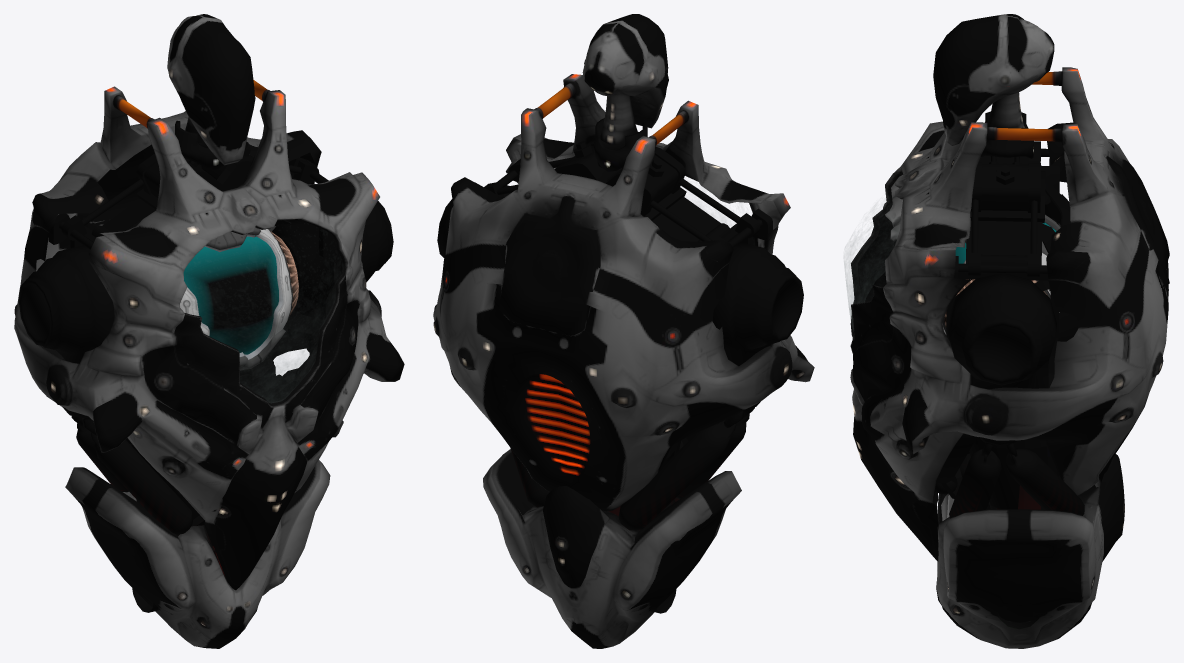
Rendered from torsoDEF.gltf.
The picture shows the model from 3 angles, left to right: view 1: azimuth 30°, elevation 25°; view 2: azimuth 150°, elevation 25°; view 3: azimuth 270°, elevation 25°; orthographic projection. The views are drawn at different scales.
Visible parts, largest first — view 1: MP_DEF_Torso, MP_DEF_Frame_Torso, MARV_Capsule_Glass, MARV_Capsule_Body, MP_DEF_Cockpit_Glass; view 2: MP_DEF_Torso, MP_DEF_Frame_Torso; view 3: MP_DEF_Torso, MP_DEF_Frame_Torso, MP_DEF_Cockpit_Glass.
Boxes of the visible parts, <box> form: MP_DEF_Torso: <box>14,14,404,648</box>; MP_DEF_Frame_Torso: <box>18,120,393,612</box>; MARV_Capsule_Glass: <box>183,235,278,354</box>; MARV_Capsule_Body: <box>180,227,298,370</box>; MP_DEF_Cockpit_Glass: <box>220,295,334,403</box>; MP_DEF_Torso: <box>433,14,814,648</box>; MP_DEF_Frame_Torso: <box>437,118,803,613</box>; MP_DEF_Torso: <box>850,14,1169,648</box>; MP_DEF_Frame_Torso: <box>935,111,1084,629</box>; MP_DEF_Cockpit_Glass: <box>844,229,897,329</box>.
Bounding box in the file's own units: 0.649 × 1.15 × 0.539.
